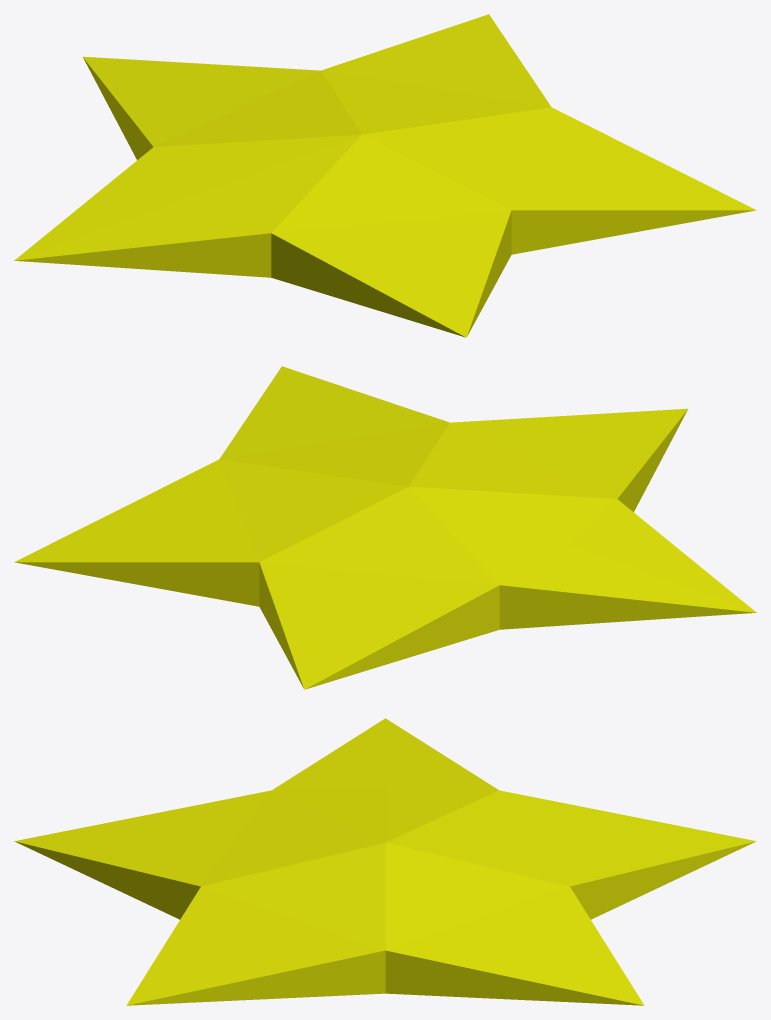
File: star-MODEL.fbx
The picture shows the model from 3 angles, top to bottom: view 1: azimuth 30°, elevation 25°; view 2: azimuth 150°, elevation 25°; view 3: azimuth 270°, elevation 25°; orthographic projection. The views are drawn at different scales.
Visible parts, largest first — view 1: Plane; view 2: Plane; view 3: Plane.
Boxes of the visible parts, x1=… form: Plane: x1=14, y1=14, x2=756, y2=337; Plane: x1=14, y1=366, x2=756, y2=689; Plane: x1=14, y1=718, x2=756, y2=1005.
Size of the model in its own units: 199 by 25.79 by 218.
